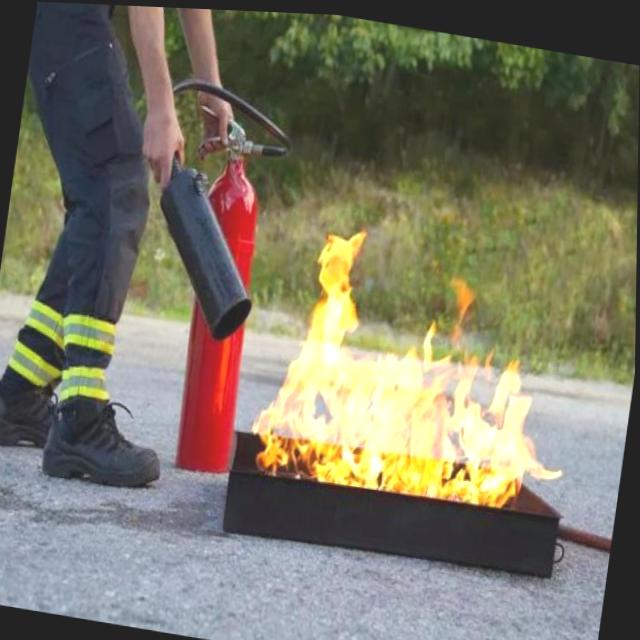FireExtinguisher: (90, 59, 302, 482)
